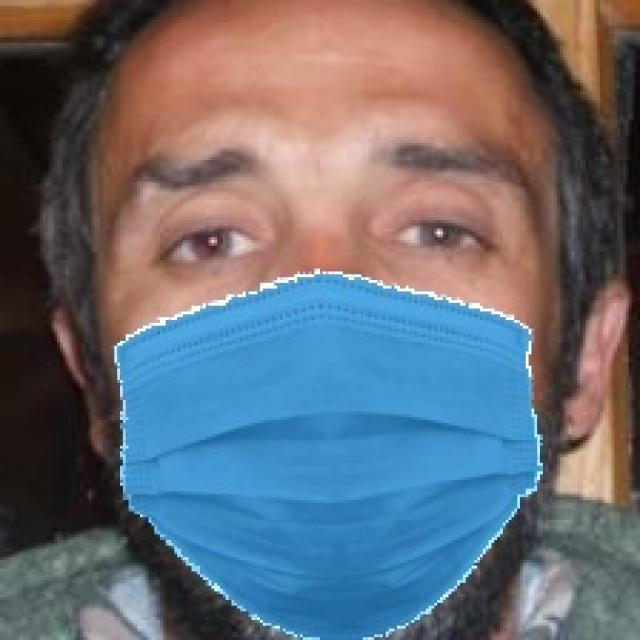mask: (73, 271, 588, 640)
